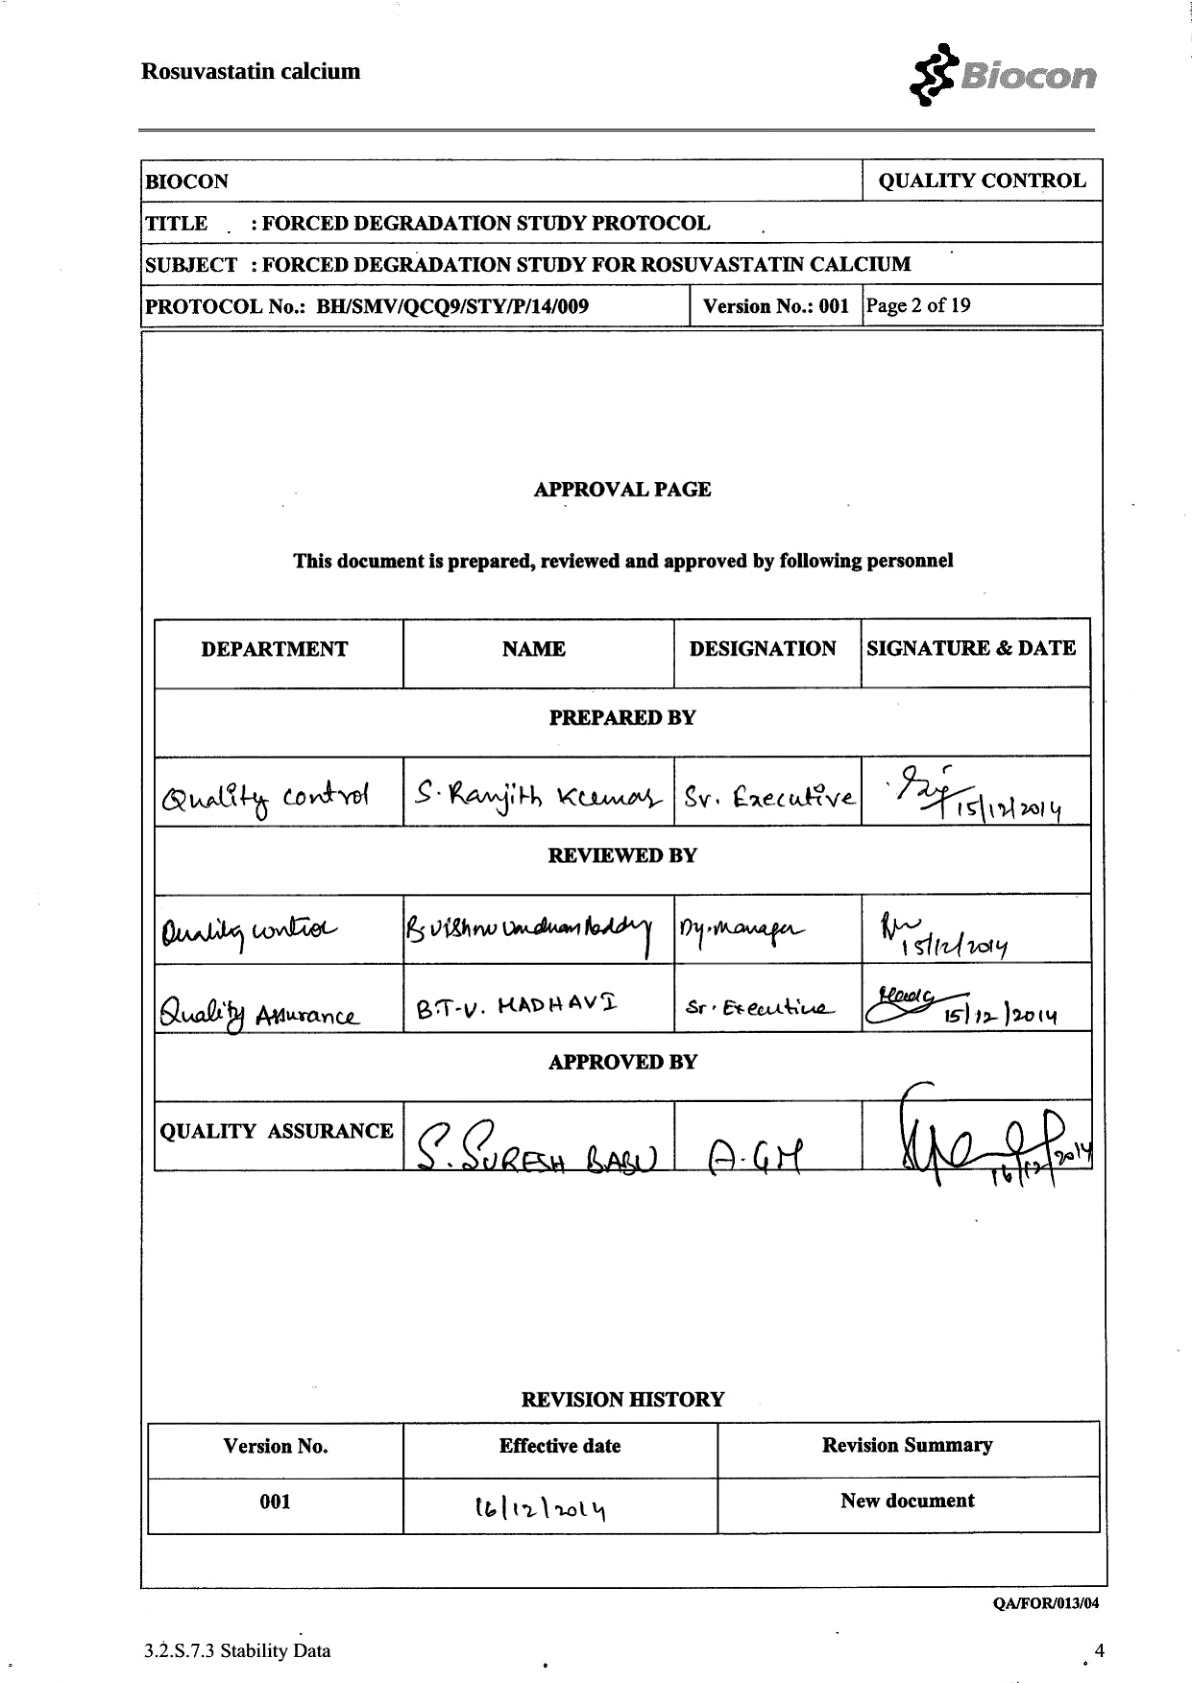full_lined: (147, 1420, 1100, 1536)
merged_cells: (154, 616, 1094, 1172), (141, 157, 1104, 329)
